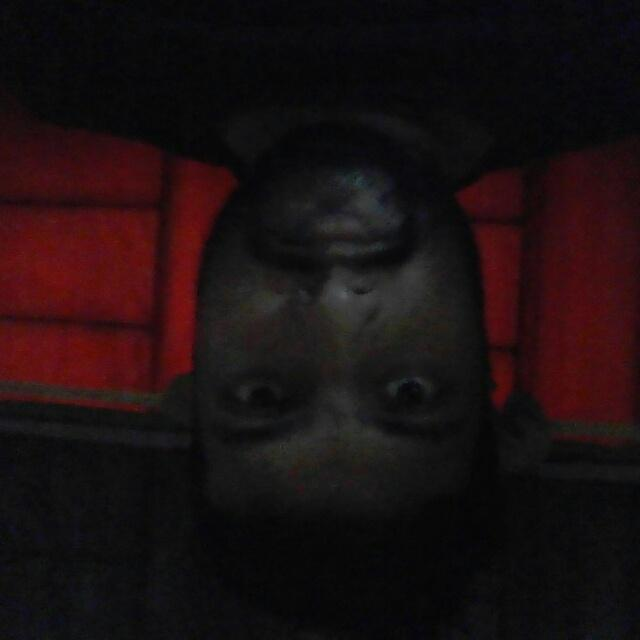Natural: (113, 107, 565, 549)
